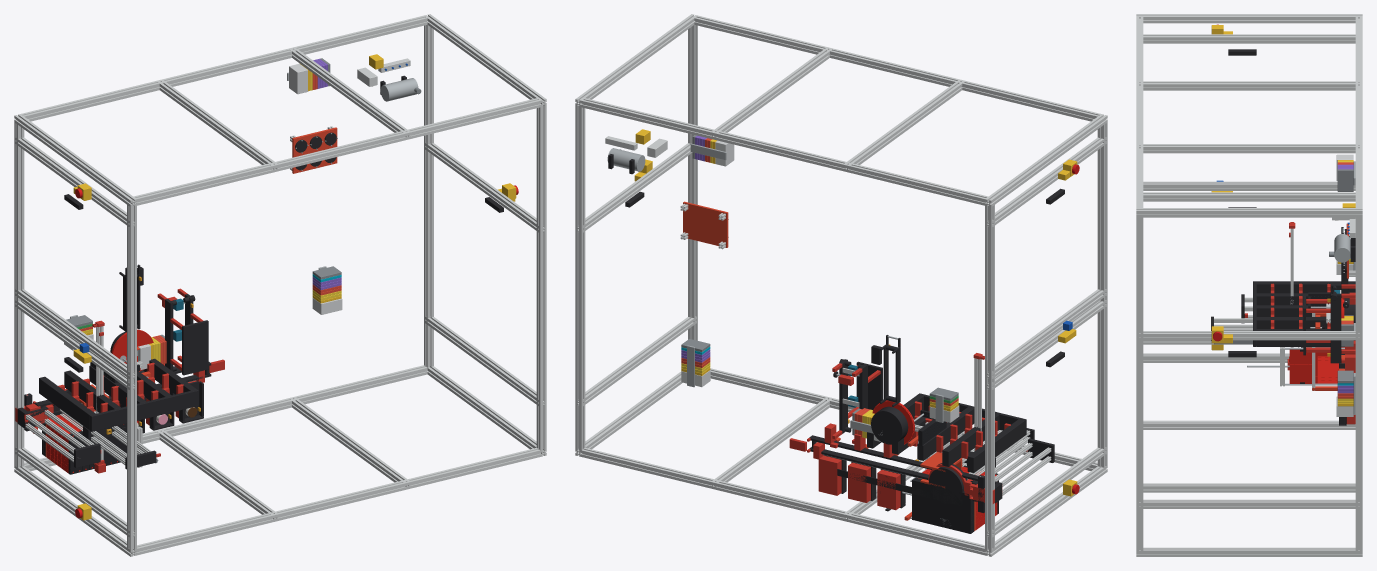
The model's file is precise_up7.glb.
3 views of the same model, side by side, from view 1: azimuth 30°, elevation 25°; view 2: azimuth 150°, elevation 25°; view 3: azimuth 270°, elevation 25° (orthographic). The views are drawn at different scales.
Visible parts, largest first — view 1: safety:guard_rail_top_right, safety:guard_rail_top_left, safety:guard_rail_bot_left, safety:guard_rail_top_back, safety:guard_rail_top_front, safety:guard_rail_bot_front, safety:guard_rail_bot_back, safety:guard_rail_bot_right, hbw:rack_cap_beam, safety:guard_post_6, safety:guard_post_10, safety:guard_post_11 (+16 smaller); view 2: safety:guard_rail_bot_right, safety:guard_rail_bot_left, safety:guard_rail_top_left, safety:guard_rail_bot_back, safety:guard_rail_top_front, safety:guard_rail_bot_front, safety:guard_rail_top_back, oven:oven_pedestal:blocks, safety:guard_rail_top_right, safety:guard_post_6, upgrade:buffer_deck, safety:guard_post_10 (+23 smaller); view 3: safety:guard_rail_bot_back, safety:guard_rail_top_back, safety:guard_post_10, safety:guard_post_7, safety:guard_post_8, safety:guard_post_6, safety:guard_post_14, safety:guard_post_13, safety:guard_post_3, safety:guard_post_5, safety:guard_post_12, safety:guard_post_11 (+16 smaller).
Part boxes in pixels (x1,y1,x2,y2): safety:guard_rail_top_right: (135,448,540,555); safety:guard_rail_top_left: (133,98,540,205); safety:guard_rail_bot_left: (21,15,427,121); safety:guard_rail_top_back: (536,105,546,450); safety:guard_rail_top_front: (127,205,136,550); safety:guard_rail_bot_front: (14,122,24,467); safety:guard_rail_bot_back: (424,25,433,367); safety:guard_rail_bot_right: (24,365,427,470); hbw:rack_cap_beam: (90,389,198,431); safety:guard_post_6: (14,114,136,207); safety:guard_post_10: (424,14,546,107); safety:guard_post_11: (156,429,278,521); safety:guard_rail_bot_right: (581,448,986,555); safety:guard_rail_bot_left: (581,98,988,205); safety:guard_rail_top_left: (694,15,1100,121); safety:guard_rail_bot_back: (575,105,585,450); safety:guard_rail_top_front: (1097,122,1107,467); safety:guard_rail_bot_front: (985,205,994,550); safety:guard_rail_top_back: (688,25,697,340); oven:oven_pedestal:blocks: (912,477,974,533); safety:guard_rail_top_right: (710,368,1097,470); safety:guard_post_6: (985,114,1107,207); upgrade:buffer_deck: (683,201,728,247); safety:guard_post_10: (575,14,697,107); safety:guard_rail_bot_back: (1355,217,1362,550); safety:guard_rail_top_back: (1136,217,1143,550); safety:guard_post_10: (1136,208,1362,217); safety:guard_post_7: (1136,547,1362,556); safety:guard_post_8: (1136,499,1362,508); safety:guard_post_6: (1136,14,1362,23); safety:guard_post_14: (1136,144,1361,153); safety:guard_post_13: (1137,81,1359,90); safety:guard_post_3: (1143,192,1355,201); safety:guard_post_5: (1143,34,1355,43); safety:guard_post_12: (1143,483,1355,492); safety:guard_post_11: (1143,420,1355,429).
Size of the model in its own units: 2088 by 1620 by 960.
